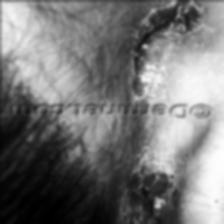Non-Cancerous Skin Condition: (96, 0, 224, 100), (105, 120, 205, 224)
